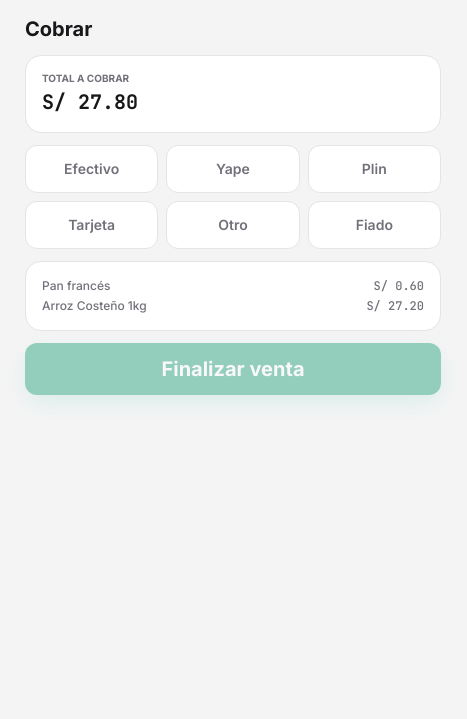
Scenario: CheckoutScreen › shows the giant change even before any bill chip, with the exact payment
This screenshot has width=467, height=719.
Click the button with test id "tender-method-cash": (92, 169) [25,145,158,193]
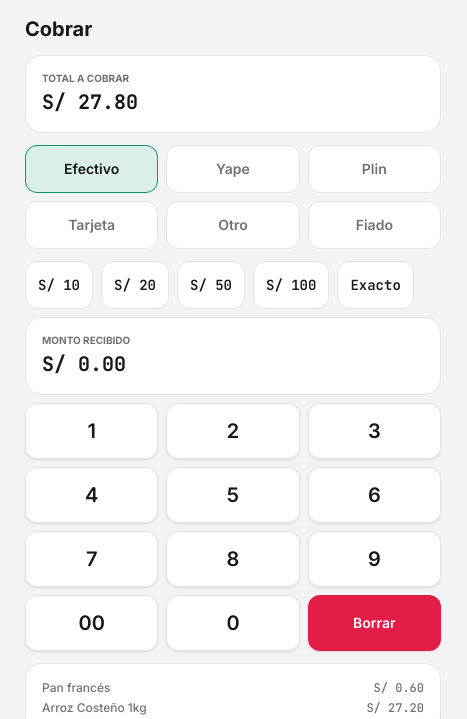
Click the button "Exacto": (376, 285) [337,261,414,309]
(page scrolled)
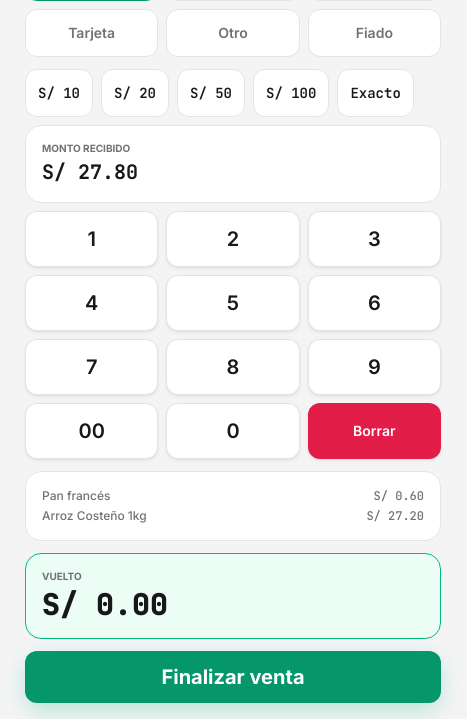
Check: the element with test id "checkout-change" shows "S/ 0.00", box [42,584,168,624]
